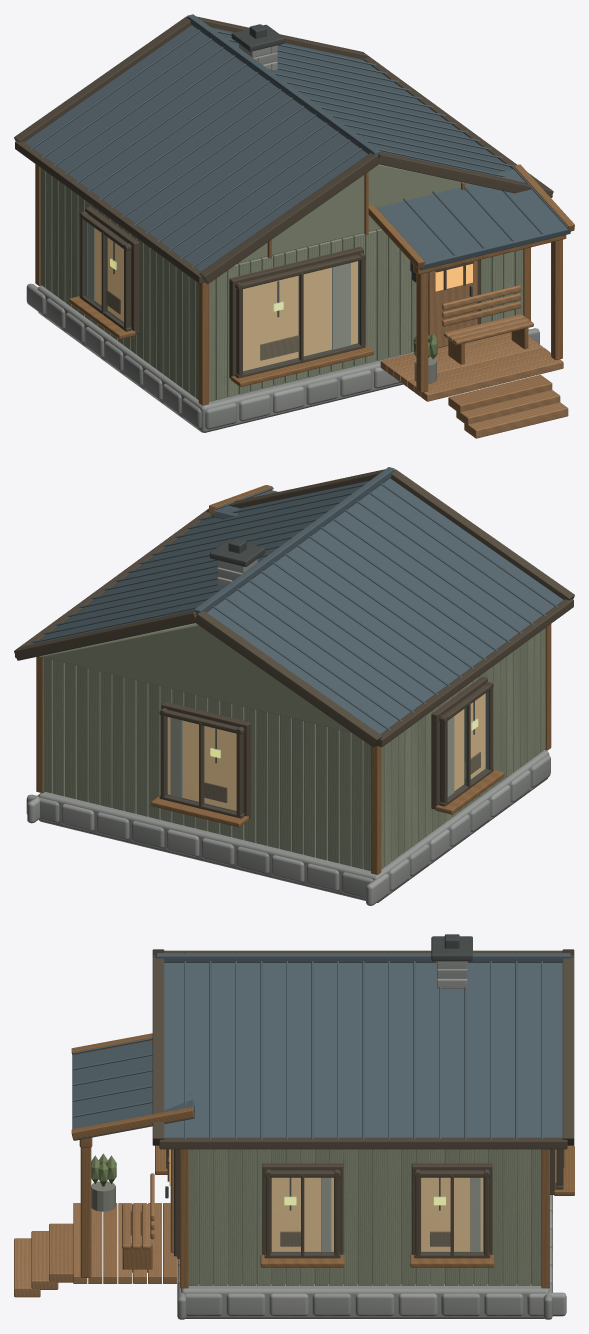
Rendered from Lake_Cabin_Sage.glb.
3 renders of one model, top to bottom at view 1: azimuth 30°, elevation 25°; view 2: azimuth 150°, elevation 25°; view 3: azimuth 270°, elevation 25°, orthographic. The views are drawn at different scales.
Parts seen in each view (by area): view 1: Cabin_Sage; view 2: Cabin_Sage; view 3: Cabin_Sage.
Part boxes in pixels (left/top/right/bottom): Cabin_Sage: left=14, top=14, right=574, bottom=438; Cabin_Sage: left=14, top=467, right=574, bottom=905; Cabin_Sage: left=14, top=934, right=574, bottom=1319.
Size of the model in its own units: 7.52 by 5.37 by 9.01.
Materials: 21 (8 with a texture image).
